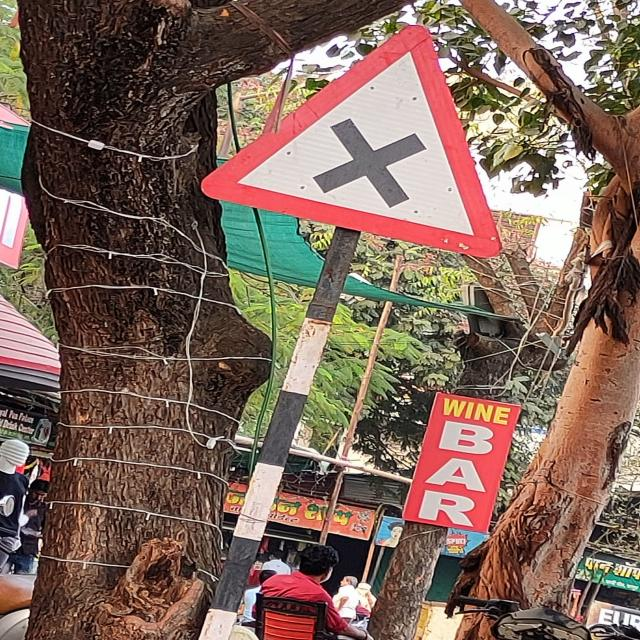CROSS_ROAD: (200, 25, 500, 262)
